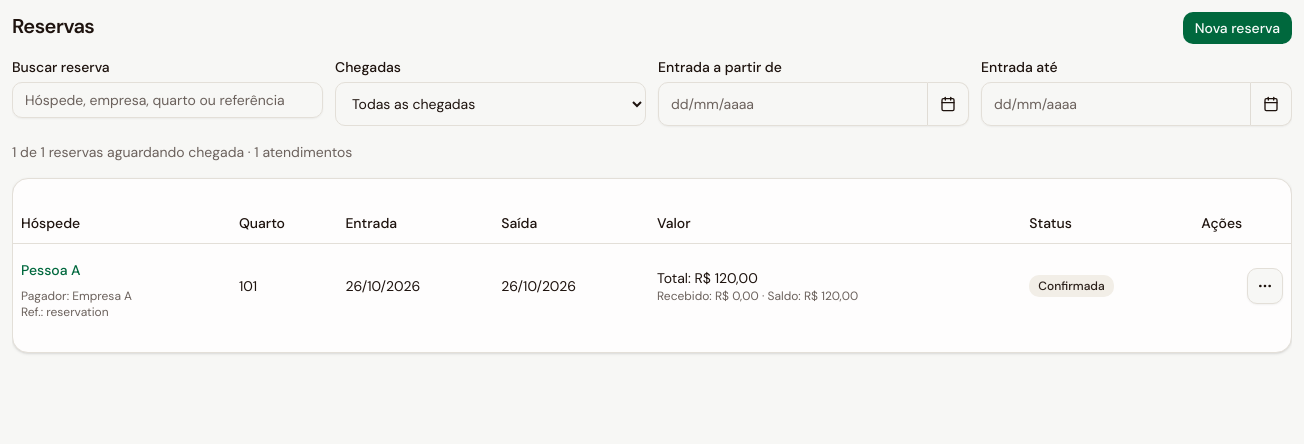
Atendimento compartilhado › o menu respeita permissões e não oferece ausência para reserva futura
Press the mouse on the button named "Mais ações da reserva reservation" at (1265, 286), box [1247,268,1283,304]
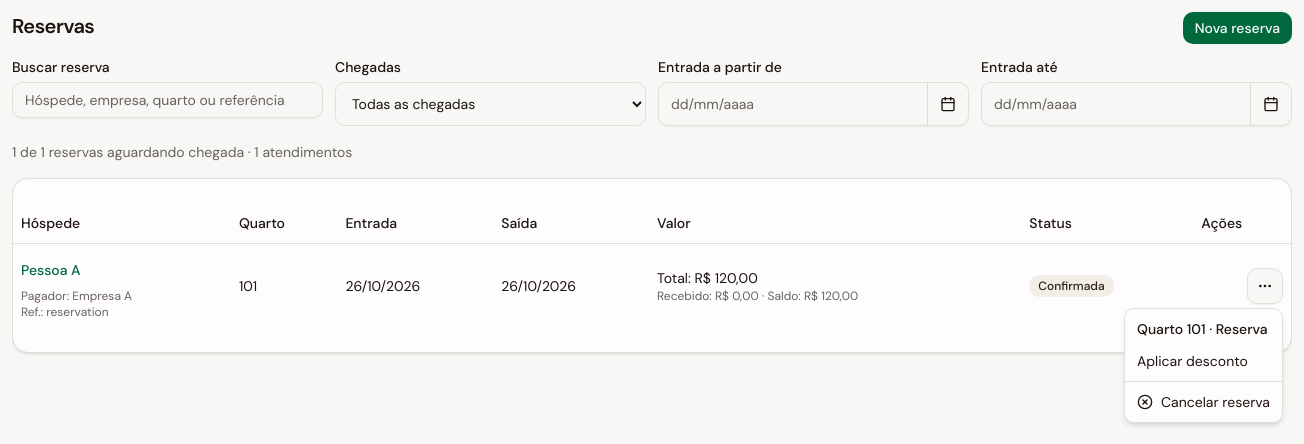
expect the menu item "Cancelar reserva" is shown: met, box [1137,393,1270,411]
